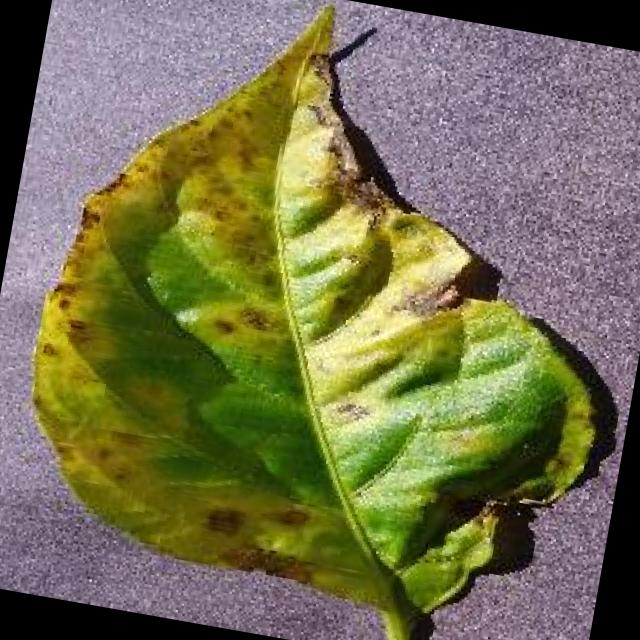Chilli_Bacterial_Spot: (0, 0, 640, 640), (183, 478, 333, 586), (314, 388, 374, 432), (197, 498, 250, 542), (232, 300, 282, 340), (260, 498, 312, 534), (206, 308, 240, 340)
